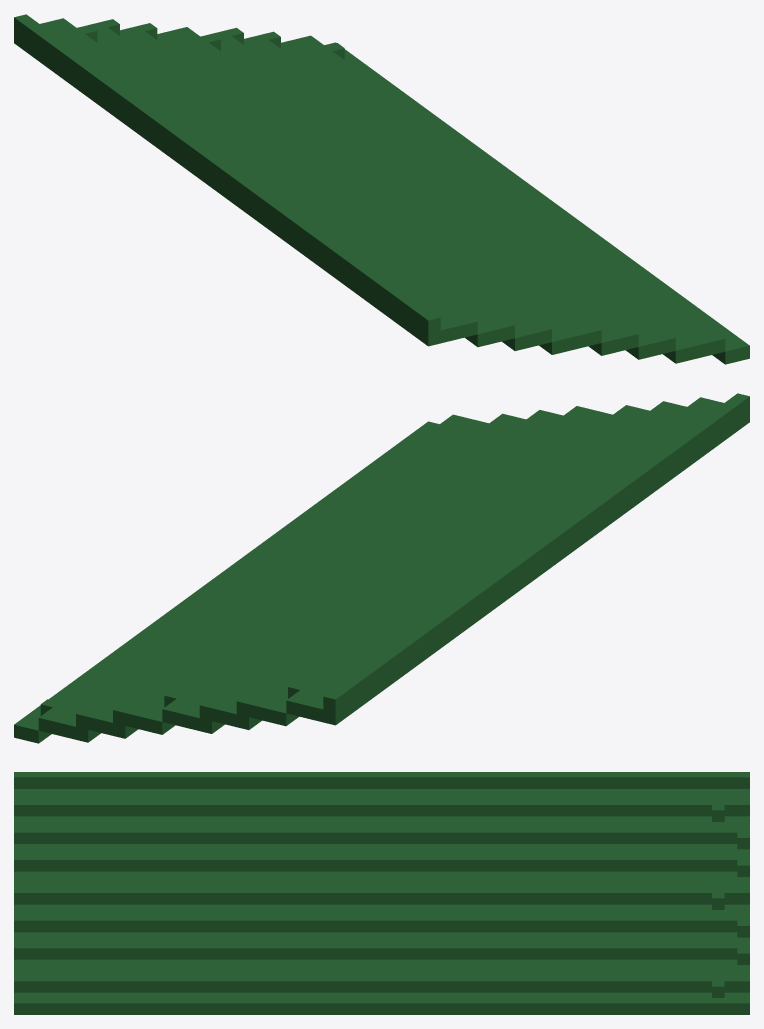
File: step_van_bonnet.glb
The picture shows the model from 3 angles, top to bottom: view 1: azimuth 30°, elevation 25°; view 2: azimuth 150°, elevation 25°; view 3: azimuth 270°, elevation 25°; orthographic projection. The views are drawn at different scales.
Parts seen in each view (by area): view 1: body:compound; view 2: body:compound; view 3: body:compound.
Part boxes in pixels (x1,y1,x2,y2): body:compound: (14, 14, 749, 364); body:compound: (14, 393, 749, 743); body:compound: (14, 772, 749, 1014).
Size of the model in its own units: 0.8125 by 0.2812 by 1.81.
